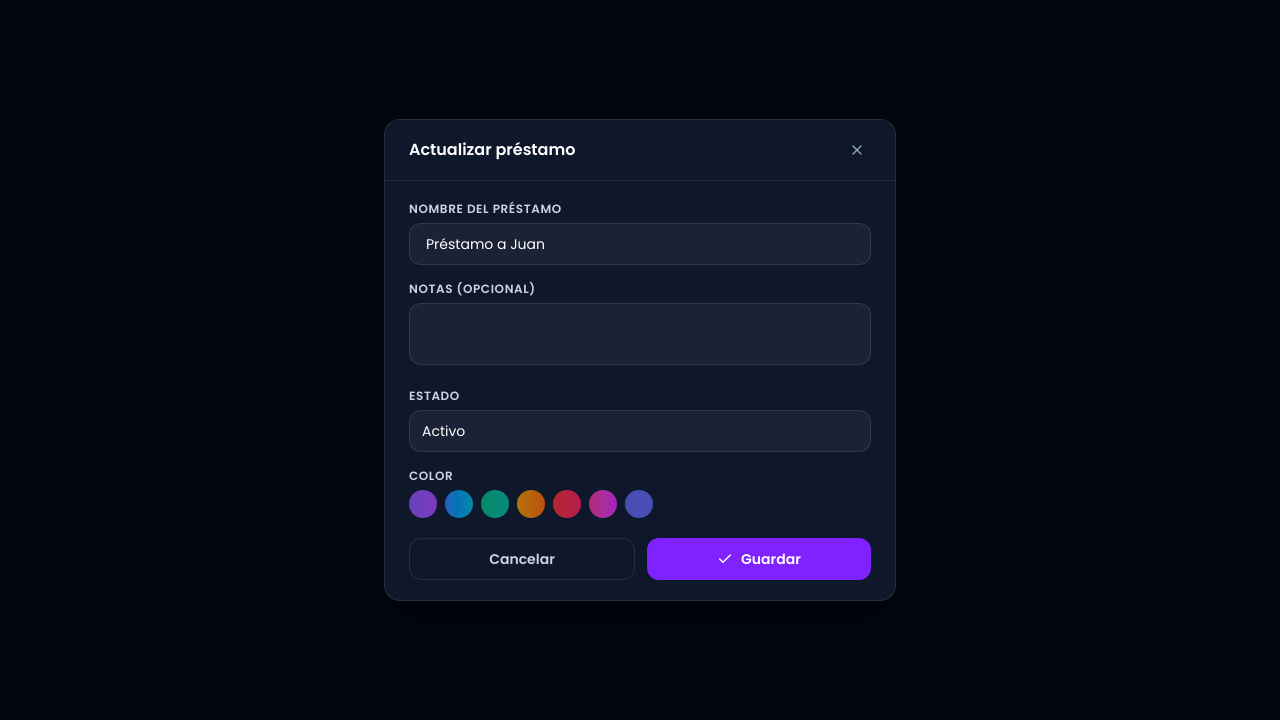
Test: EditLoanModal › muestra el mensaje de la excepción cuando la acción lanza
Check: the field labelled "Nombre del préstamo" holds "Préstamo a Juan", box [409,223,871,265]
Click the submit button at x=759, y=559, box [647,538,871,580]
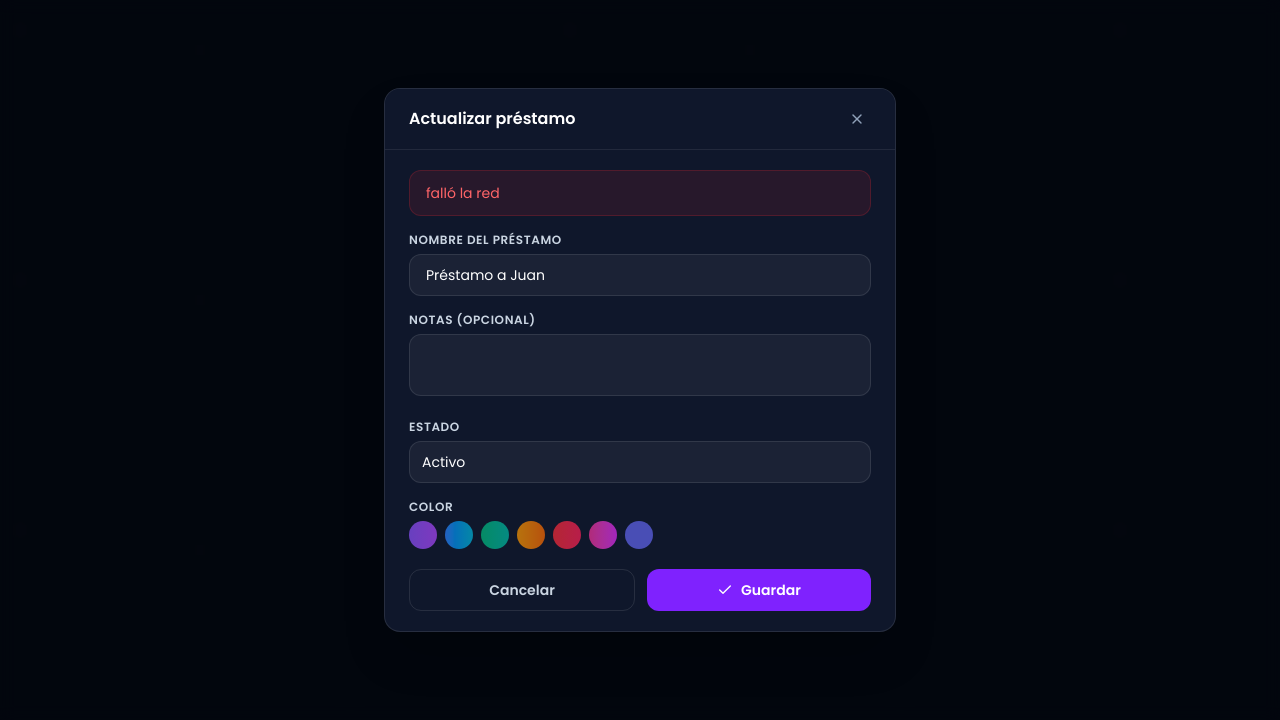
Check: the message reads "falló la red", box [426,183,500,203]
